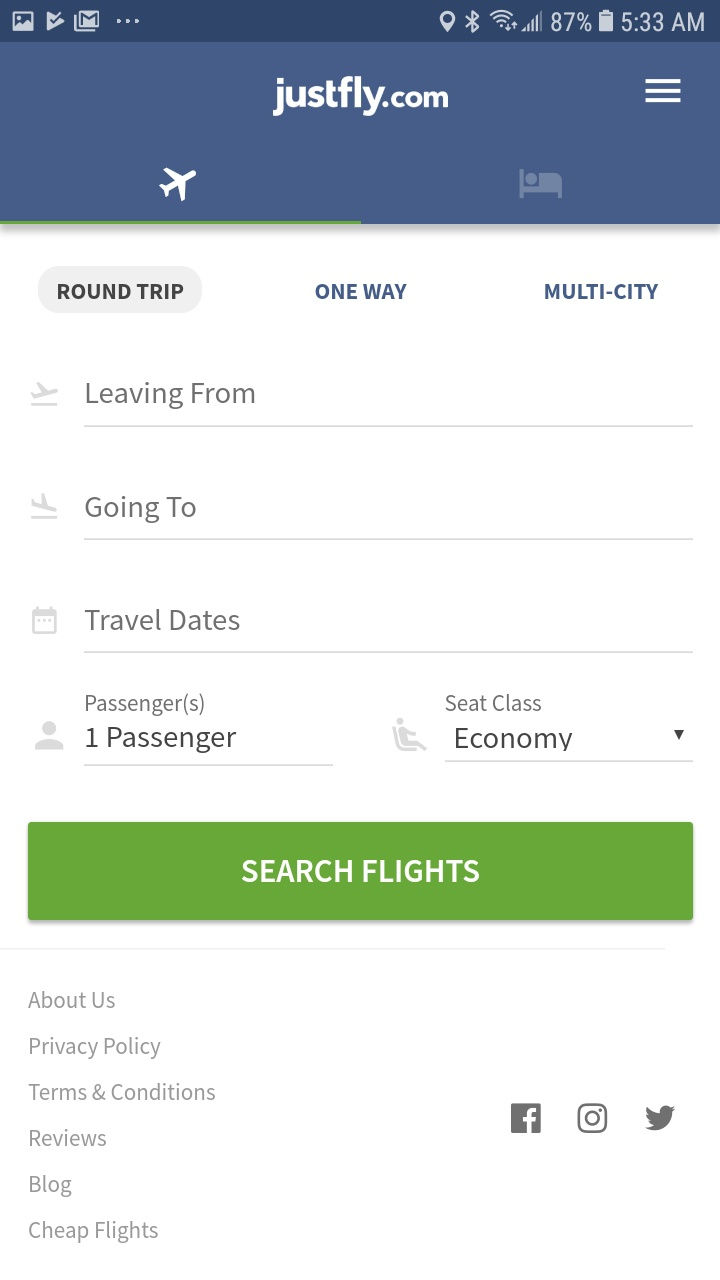Icon: (643, 76, 682, 104), (509, 1102, 540, 1133), (576, 1101, 606, 1132), (34, 719, 64, 750), (644, 1104, 676, 1130), (31, 604, 57, 634), (673, 728, 685, 738)
Image: (518, 165, 565, 200), (391, 715, 427, 753), (159, 165, 197, 201), (29, 380, 60, 407), (29, 493, 59, 519)
Text: (271, 72, 450, 118), (85, 379, 256, 408), (86, 727, 237, 754), (82, 606, 238, 632), (27, 1082, 217, 1102), (84, 688, 204, 716), (84, 495, 196, 524), (28, 1219, 159, 1243), (454, 726, 573, 752), (28, 1036, 160, 1058), (543, 280, 659, 300), (445, 692, 541, 711), (26, 990, 115, 1010), (27, 1127, 108, 1148), (314, 282, 408, 300), (29, 1172, 72, 1198)
TextButton: (28, 821, 692, 918), (39, 265, 200, 311)
UpperTaskBar: (1, 1, 720, 43)
